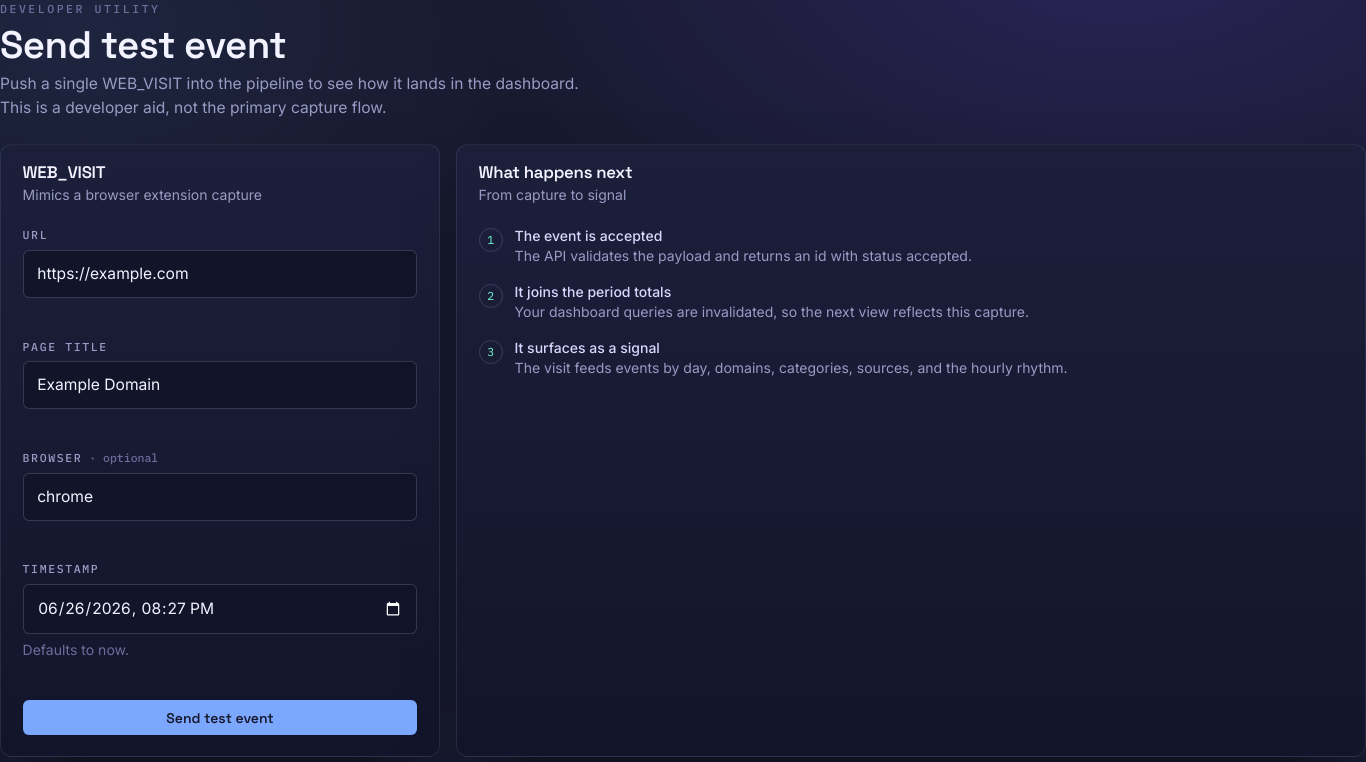
Test case: SendTestEventPage › submits the prefilled event and invalidates dashboard data
Click the button "Send test event".
click(220, 718)  # box [23,700,417,735]
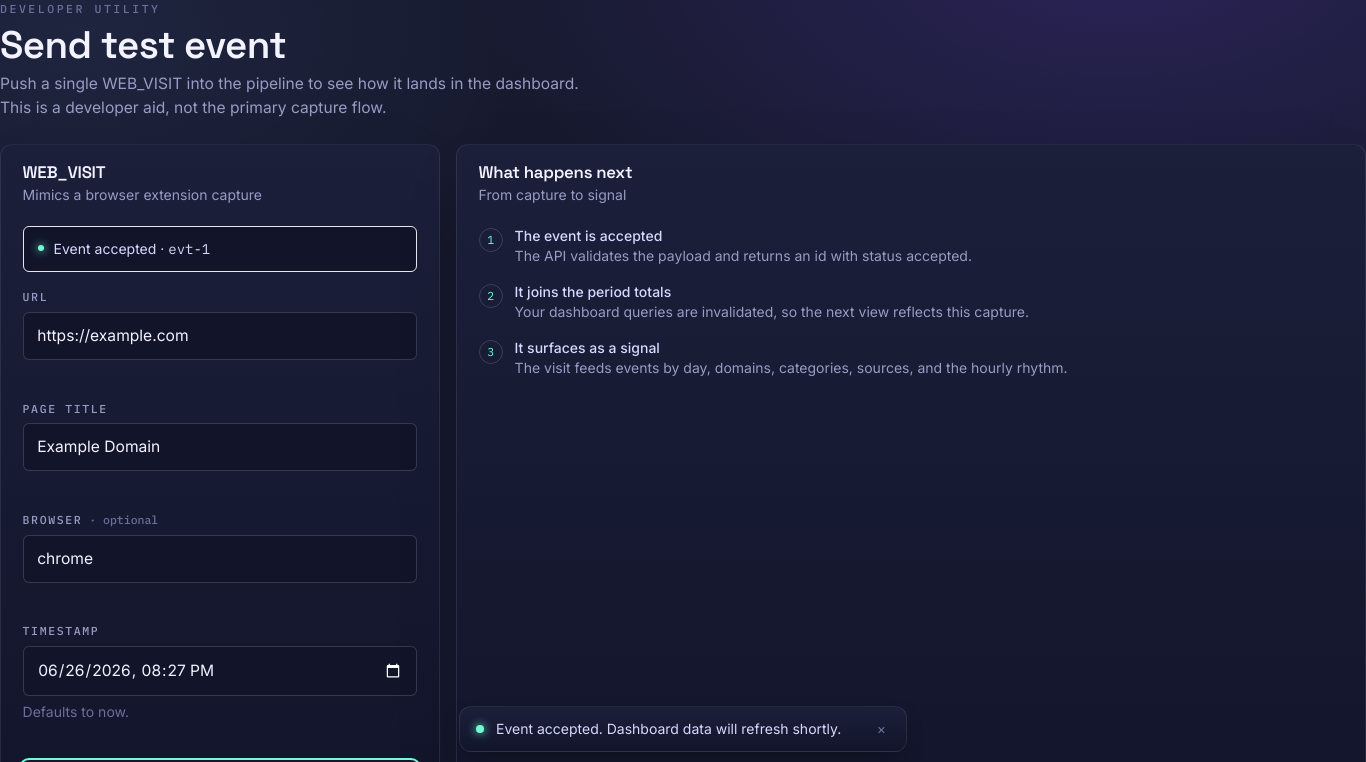
Now the text "Event accepted · evt-1" is shown, box [54,239,210,259]
